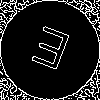E: (25, 25, 73, 80)
